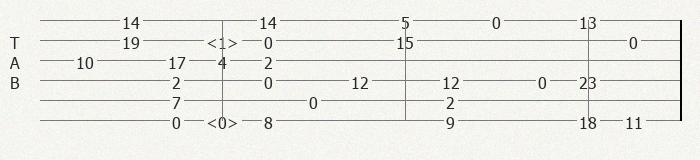0: (172, 112, 185, 128), (264, 72, 277, 88), (264, 32, 277, 48), (309, 92, 322, 108), (492, 12, 505, 28), (538, 72, 551, 88), (629, 32, 642, 48)
10: (76, 52, 98, 68)
11: (625, 112, 647, 128)
12: (351, 72, 373, 88), (442, 72, 464, 88)
13: (579, 12, 601, 28)
14: (122, 12, 144, 28), (259, 12, 281, 28)
15: (396, 32, 418, 48)
17: (168, 52, 190, 68)
18: (579, 112, 601, 128)
19: (122, 32, 144, 48)
2: (172, 72, 185, 88), (264, 52, 277, 68), (446, 92, 459, 108)
23: (579, 72, 601, 88)
4: (218, 52, 231, 68)
5: (401, 12, 414, 28)
7: (172, 92, 185, 108)
8: (264, 112, 277, 128)
9: (446, 112, 459, 128)
harmonic: (206, 112, 243, 128), (206, 32, 243, 48)
